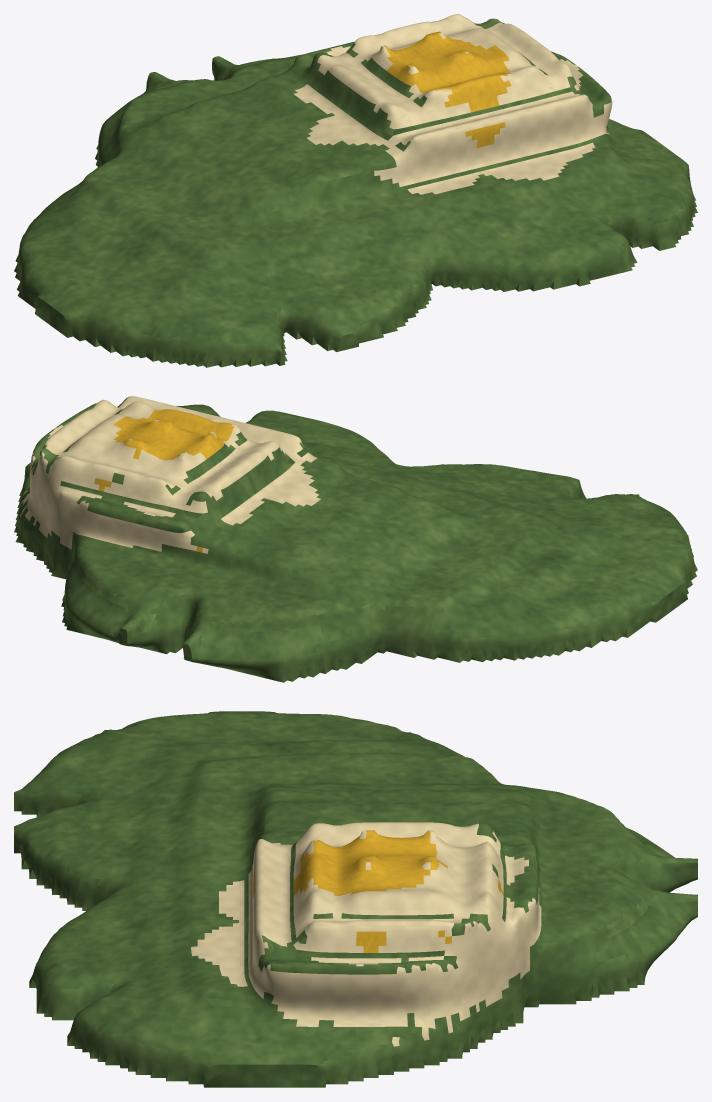
Rendered from flora_waterlily_pad.glb.
3 views of the same model, one above another, from view 1: azimuth 30°, elevation 25°; view 2: azimuth 150°, elevation 25°; view 3: azimuth 270°, elevation 25° (orthographic). The views are drawn at different scales.
Parts seen in each view (by area): view 1: wilds_ruins_flora_waterlily_pad; view 2: wilds_ruins_flora_waterlily_pad; view 3: wilds_ruins_flora_waterlily_pad.
Part boxes in pixels (x1,y1,x2,y2): wilds_ruins_flora_waterlily_pad: (14, 14, 697, 367); wilds_ruins_flora_waterlily_pad: (14, 396, 697, 682); wilds_ruins_flora_waterlily_pad: (14, 711, 697, 1087).
Bounding box in the file's own units: 1.1 × 0.2 × 0.9.
3 materials, 3 textured.
